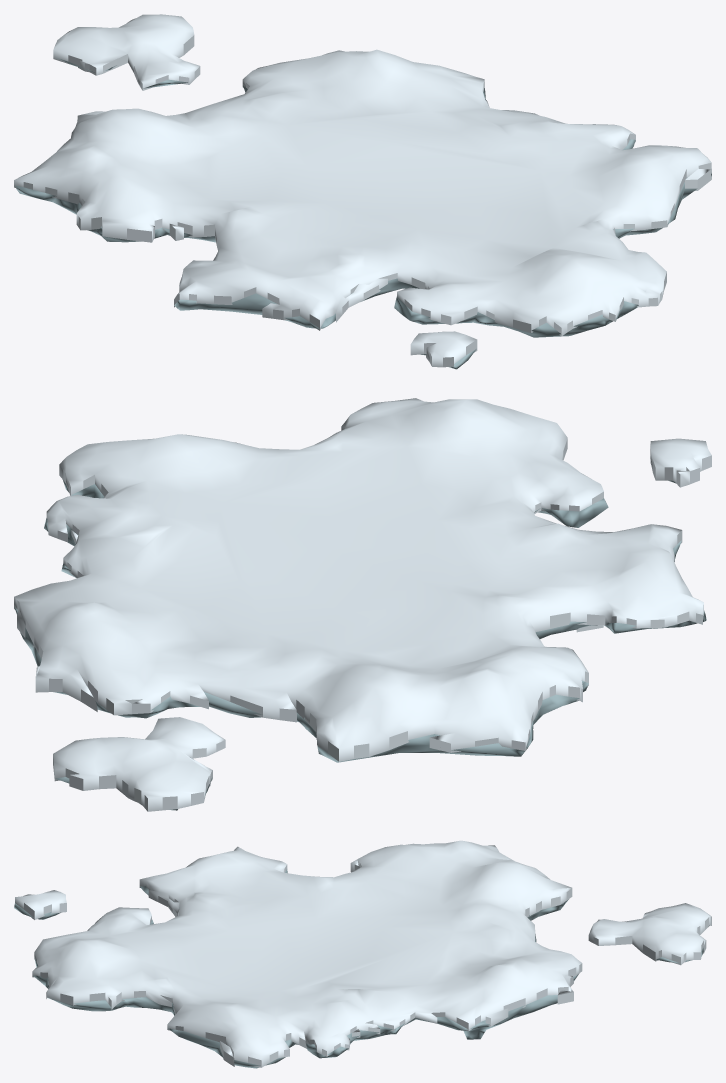
File: SecondRoom_IceSheet.fbx
3 renders of one model, top to bottom at view 1: azimuth 30°, elevation 25°; view 2: azimuth 150°, elevation 25°; view 3: azimuth 270°, elevation 25°, orthographic. The views are drawn at different scales.
Parts seen in each view (by area): view 1: SecondRoom_IceSheet_LOD0; view 2: SecondRoom_IceSheet_LOD0; view 3: SecondRoom_IceSheet_LOD0.
Boxes of the visible parts, x1,y1,x2,y2 form: SecondRoom_IceSheet_LOD0: (14,14,711,369); SecondRoom_IceSheet_LOD0: (14,398,711,811); SecondRoom_IceSheet_LOD0: (14,840,711,1068).
Size of what is drawn, in the model's own units: 4.36 by 0.535 by 6.
